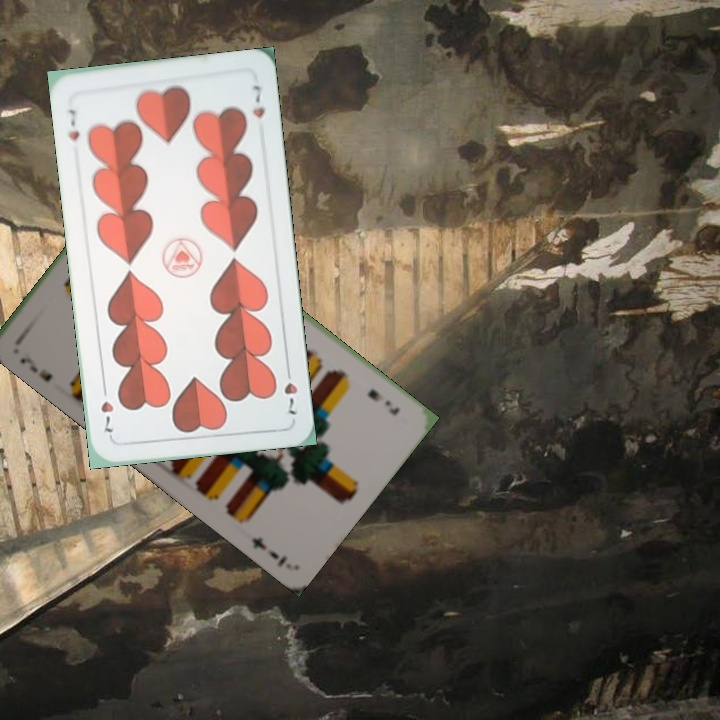E7: (363, 385, 402, 418), (16, 353, 55, 384)
H7: (280, 361, 301, 418), (64, 105, 82, 144)
